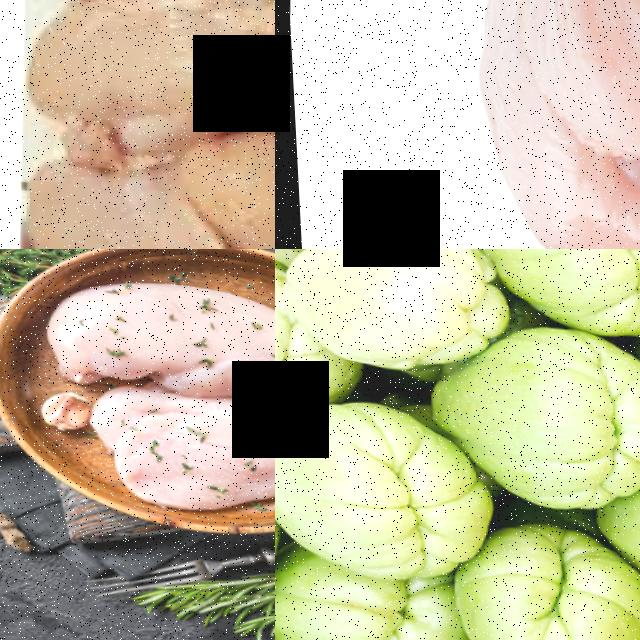chayote: (275, 407, 481, 580), (448, 327, 640, 481), (275, 249, 485, 364), (465, 523, 609, 640), (487, 249, 640, 332)
chicken breast: (413, 0, 640, 249), (9, 0, 271, 156), (61, 371, 275, 518), (45, 269, 275, 404), (12, 183, 235, 249)
